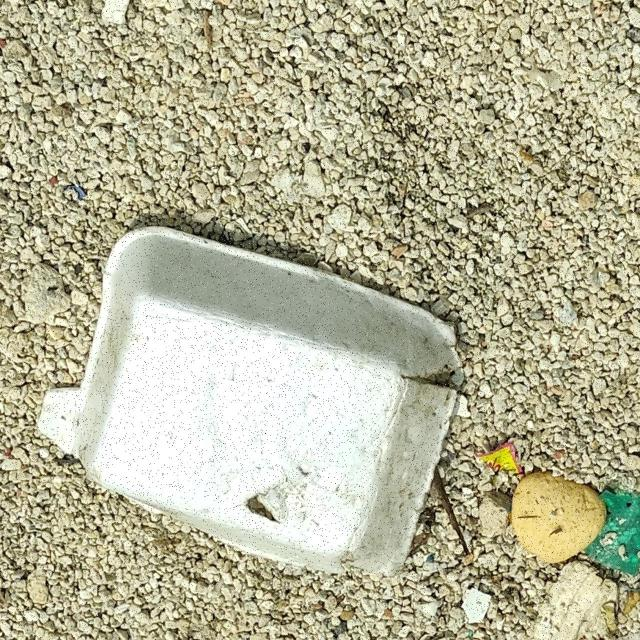styrofoam_waste: (36, 225, 468, 583)
